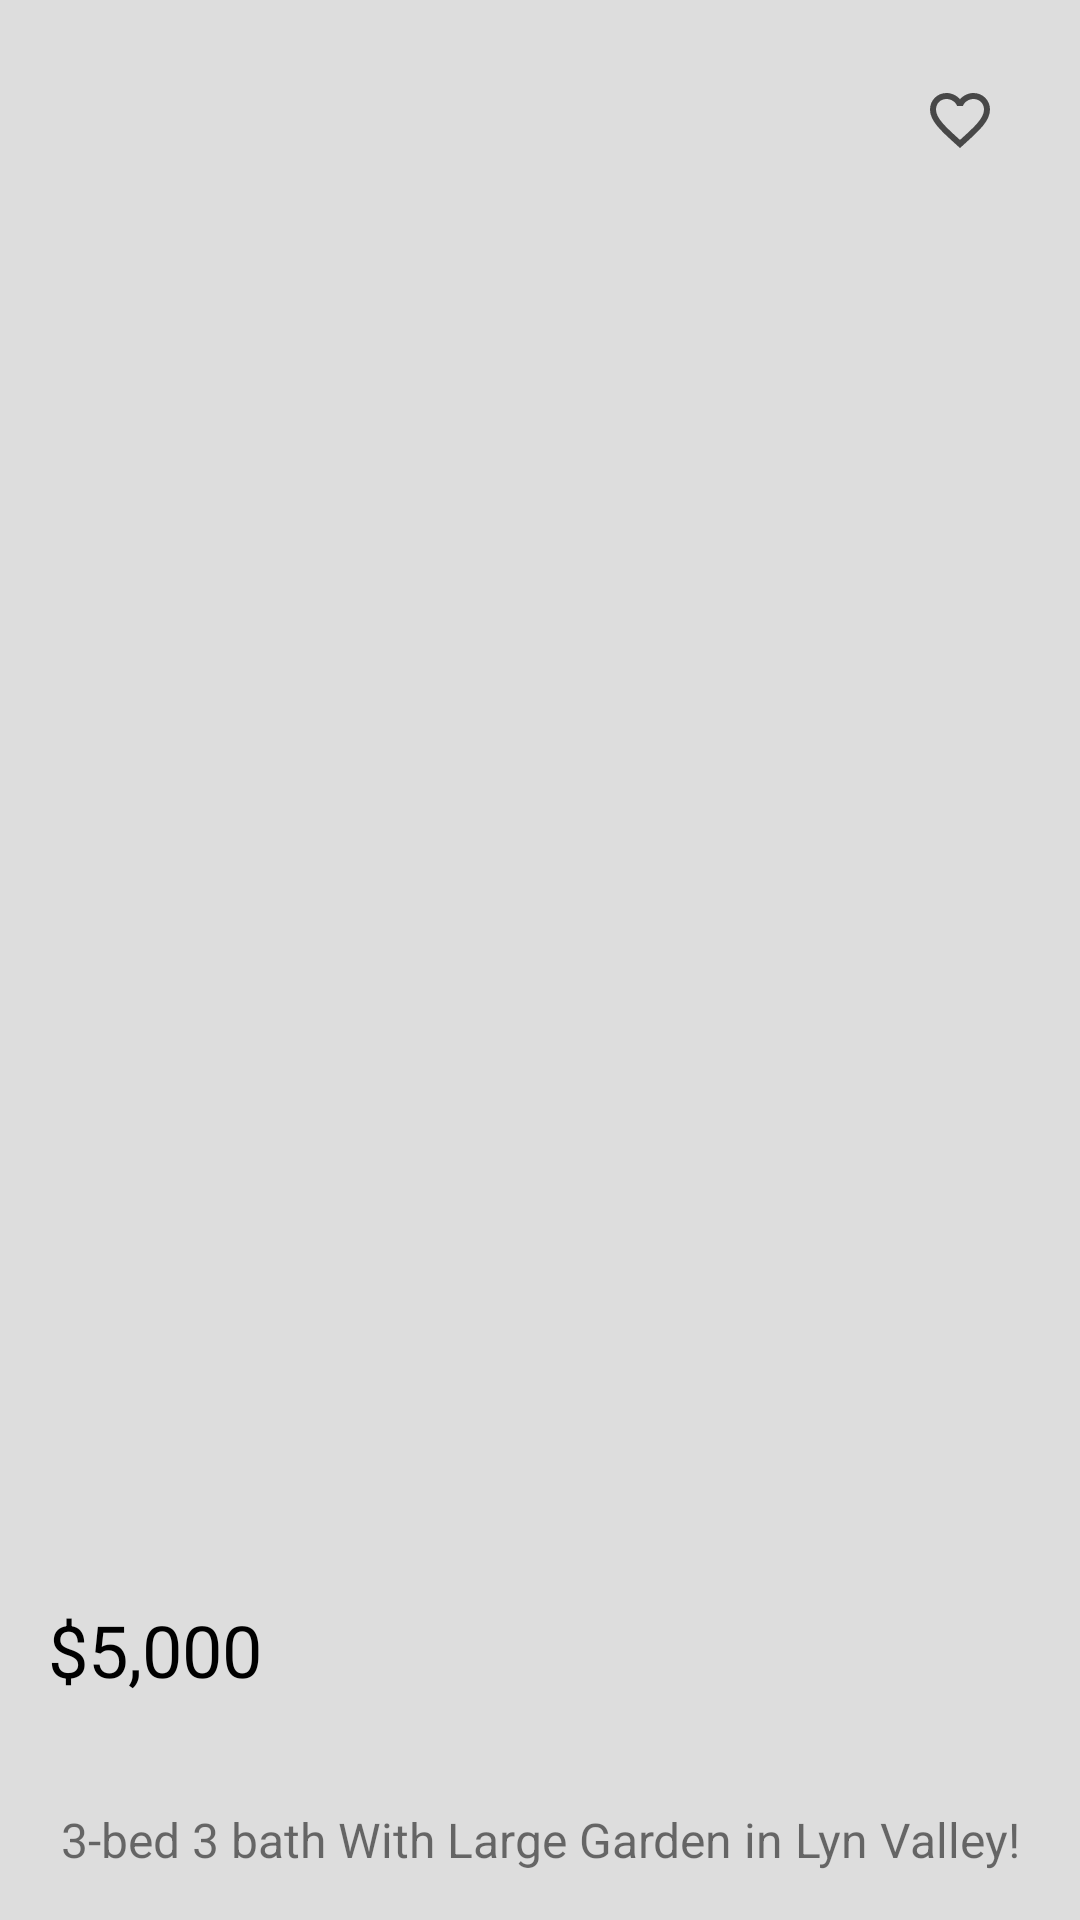

Screen size 1080 × 1920. Icon name, then its center in pixels as [x,y]:
favorite border: [960,120]
